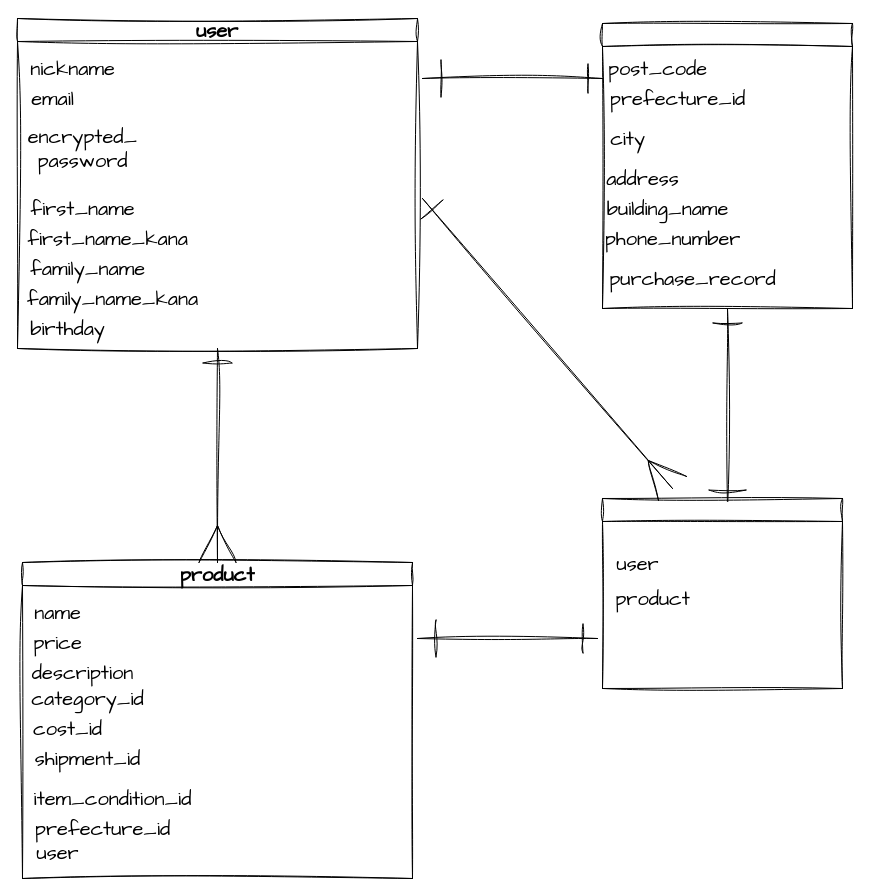
This 870x896 diagram has some shape labels left out. Each missing label, with the box of its shape:
distination: (602, 22, 852, 308)
Purchase record: (602, 498, 842, 688)
